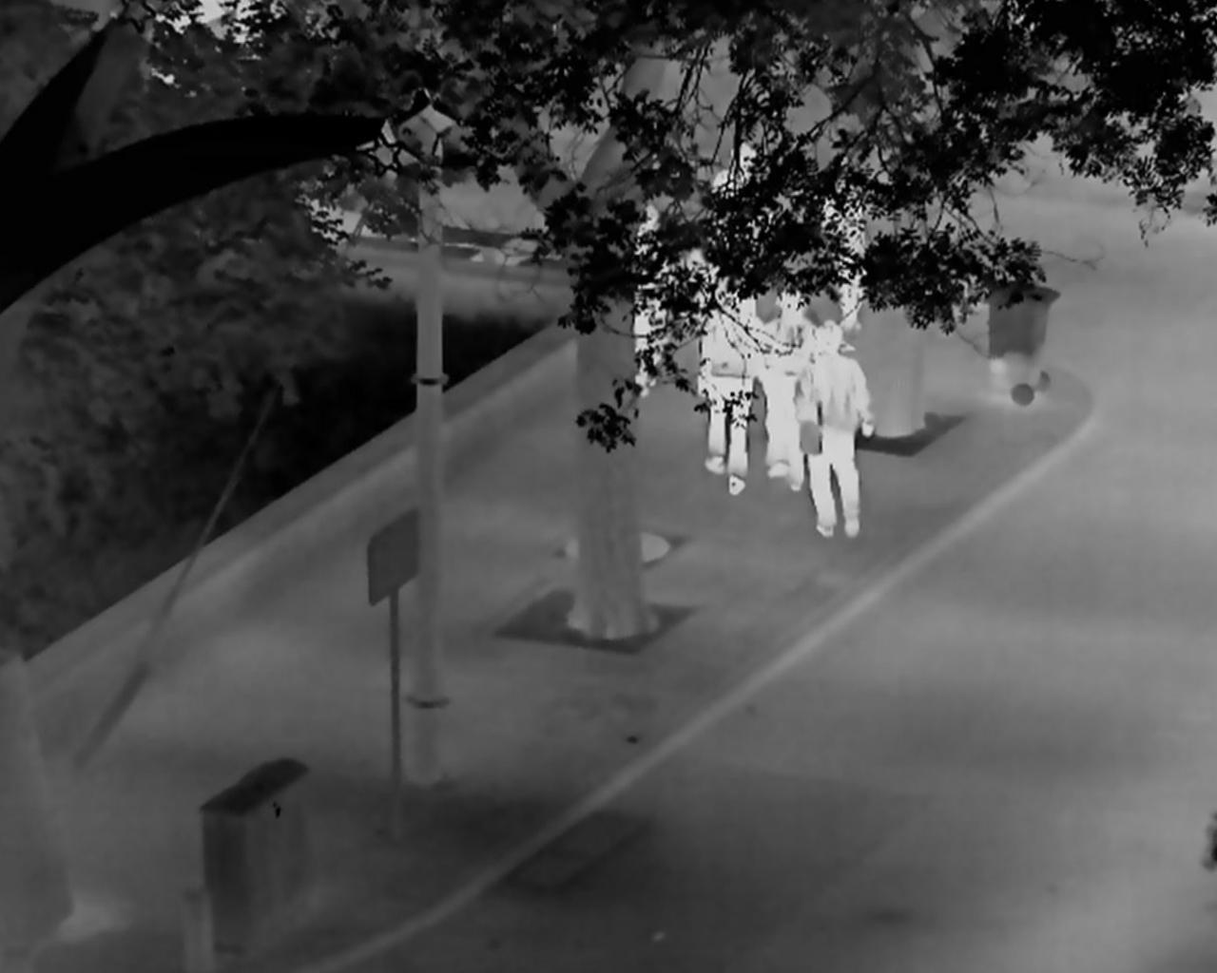person: (794, 321, 876, 540), (699, 266, 760, 494), (762, 287, 820, 491), (820, 153, 870, 331), (712, 142, 768, 274), (634, 200, 670, 398)
